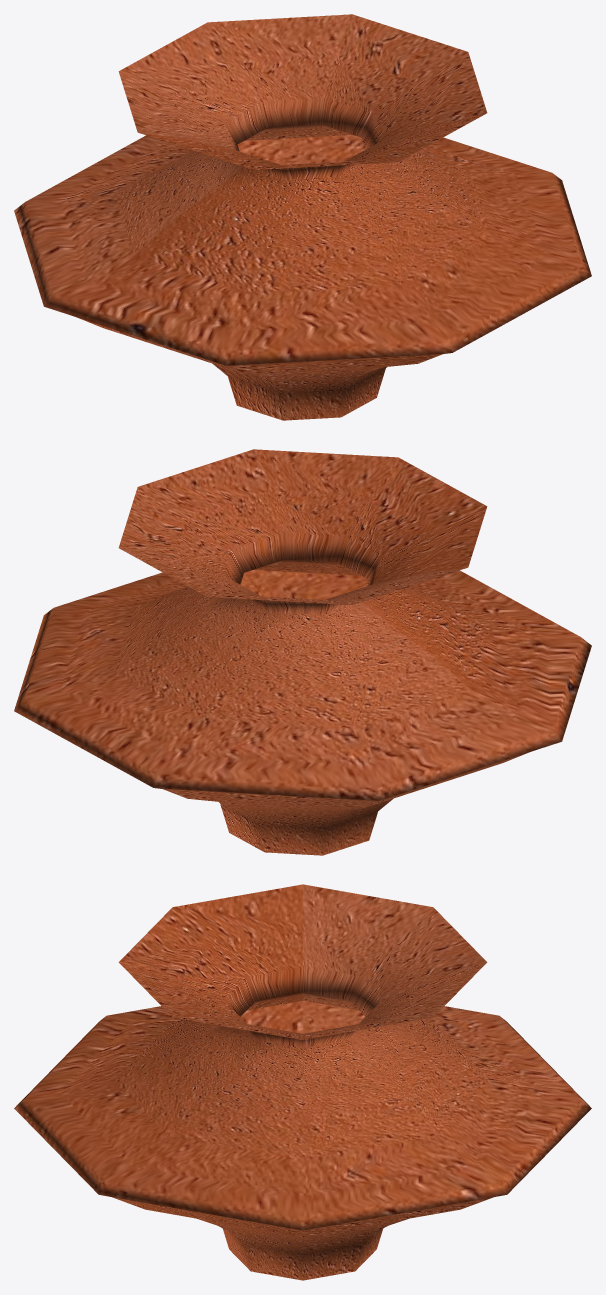
The model's file is Pottery3.fbx.
The picture shows the model from 3 angles, top to bottom: view 1: azimuth 30°, elevation 25°; view 2: azimuth 150°, elevation 25°; view 3: azimuth 270°, elevation 25°; orthographic projection. The views are drawn at different scales.
Parts seen in each view (by area): view 1: Cylinder.003; view 2: Cylinder.003; view 3: Cylinder.003.
Boxes of the visible parts, x1,y1,x2,y2 form: Cylinder.003: (14,14,591,420); Cylinder.003: (14,449,591,855); Cylinder.003: (14,884,591,1280).
Bounding box in the file's own units: 142 × 77.68 × 142.
